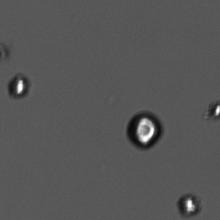Dead Cell: (1, 39, 11, 66)
Living Cell: (123, 108, 167, 151), (173, 191, 204, 217), (5, 72, 32, 99)
